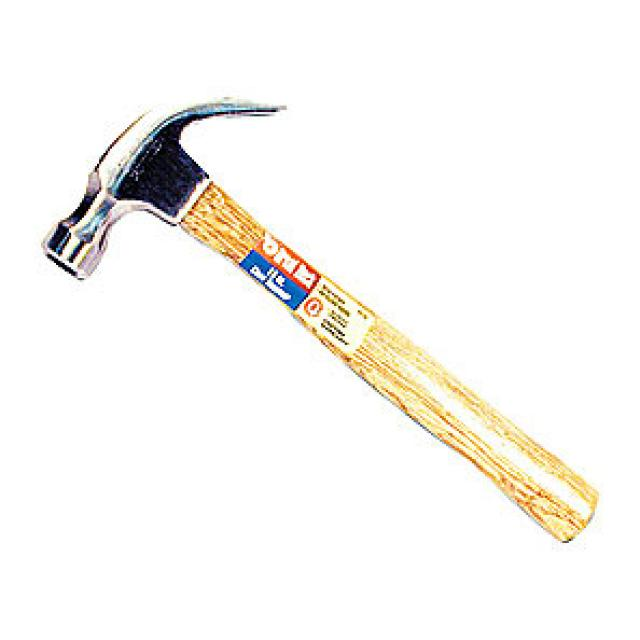hammer: (18, 65, 584, 511)
